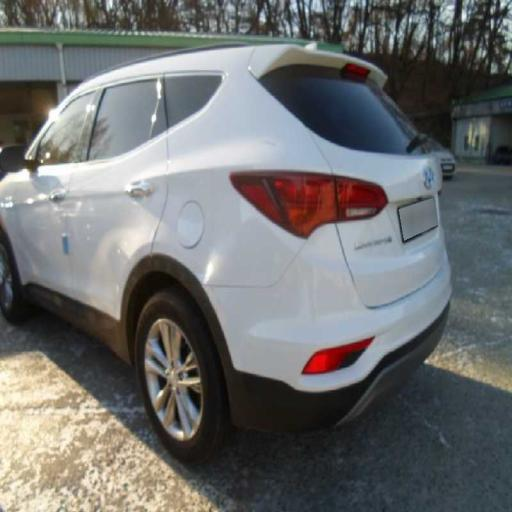dent: (40, 148, 282, 316)
